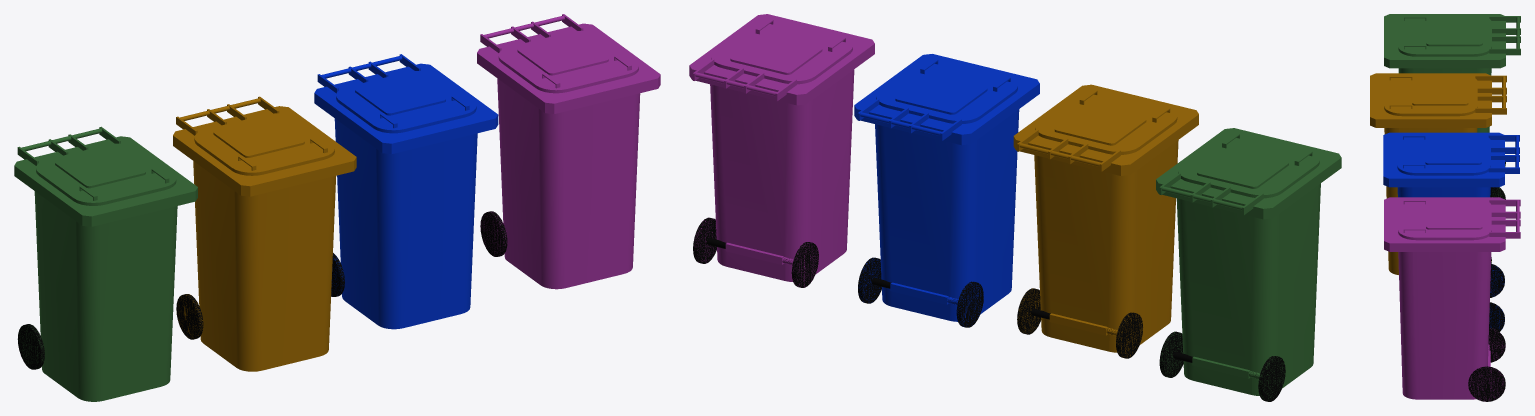
3 views of the same model, side by side, from view 1: azimuth 30°, elevation 25°; view 2: azimuth 150°, elevation 25°; view 3: azimuth 270°, elevation 25° (orthographic). The views are drawn at different scales.
Visible parts, largest first — view 1: SketchUp (×15); view 2: SketchUp (×20); view 3: SketchUp (×17).
Boxes of the visible parts, bbox=[...] form: SketchUp (×15): bbox=[14, 14, 660, 401]; SketchUp (×20): bbox=[689, 14, 1341, 401]; SketchUp (×17): bbox=[1370, 14, 1520, 401].
Size of the model in its own units: 114 by 31.71 by 38.78.
